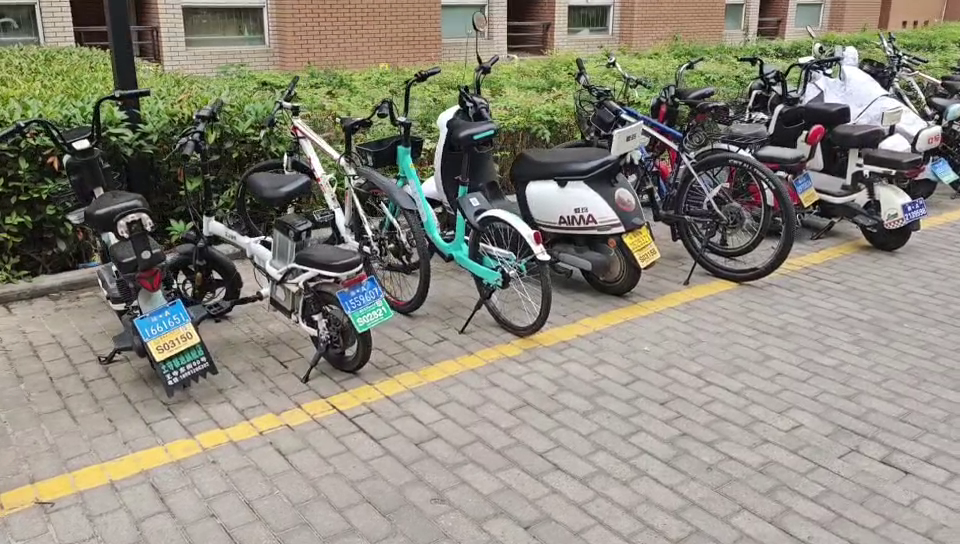others: (564, 58, 799, 280), (6, 99, 189, 374), (689, 56, 926, 250), (184, 112, 356, 374)
shared_bike_qingcong: (334, 66, 545, 347)
